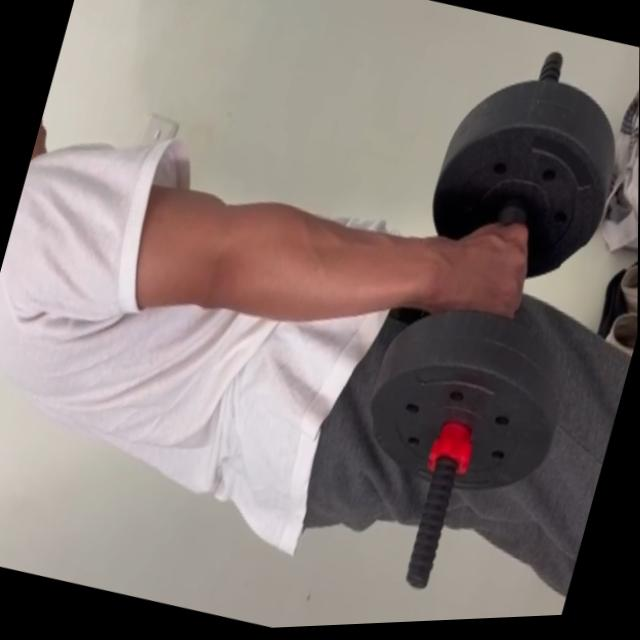hammer: (342, 45, 639, 522)
